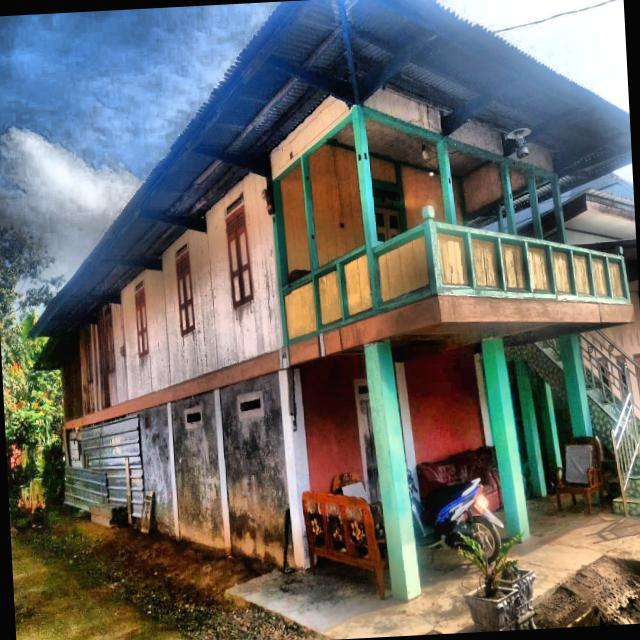column: (365, 337, 422, 601), (481, 336, 530, 543), (278, 368, 311, 570), (559, 333, 593, 437)
door: (374, 206, 401, 242)
ornamen: (373, 229, 431, 309), (338, 249, 373, 320), (437, 228, 474, 289), (283, 277, 317, 343), (471, 233, 505, 290), (314, 264, 342, 330), (501, 238, 531, 292), (527, 242, 555, 294), (551, 247, 576, 295), (573, 250, 594, 295), (591, 254, 612, 297), (608, 257, 628, 299)
roof: (33, 0, 632, 335), (561, 173, 635, 208)
wall: (60, 172, 284, 422), (220, 372, 295, 567), (170, 390, 226, 550), (308, 143, 365, 267), (137, 403, 175, 538), (280, 161, 311, 282), (401, 165, 446, 230), (462, 162, 503, 215)
window: (225, 205, 253, 309), (175, 249, 195, 336), (135, 287, 149, 358), (104, 305, 116, 374), (85, 325, 93, 383)
